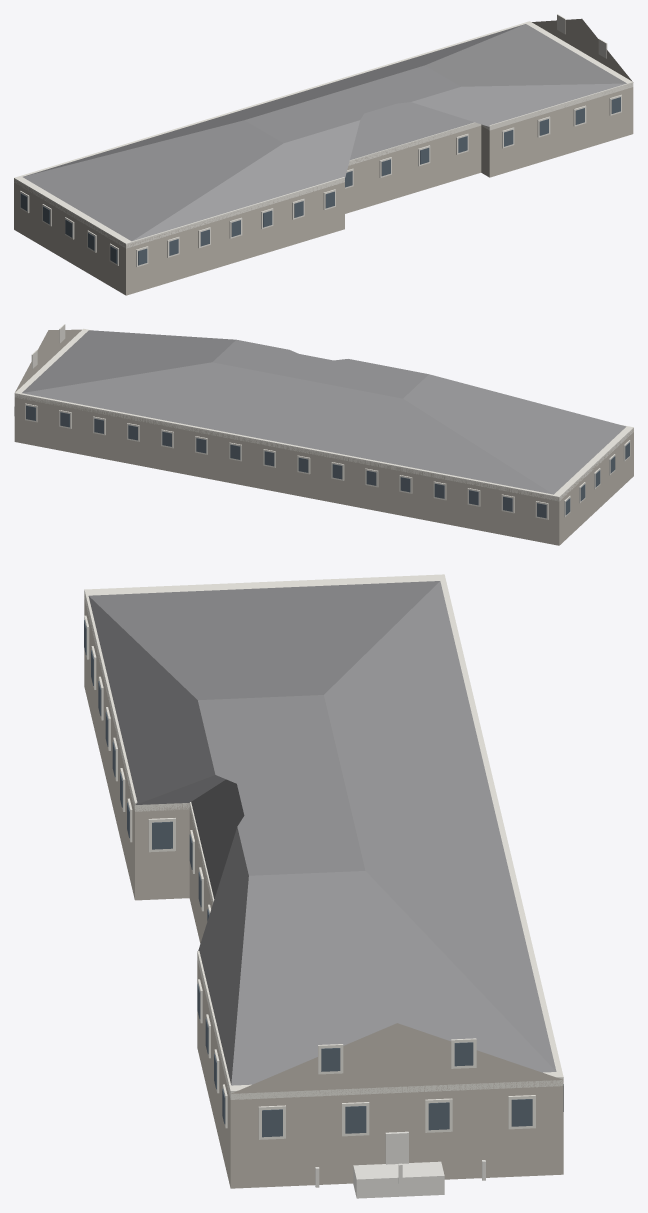
Rendered from s17_gis_247929_820785_detail.glb.
The picture shows the model from 3 angles, top to bottom: view 1: azimuth 30°, elevation 25°; view 2: azimuth 150°, elevation 25°; view 3: azimuth 270°, elevation 25°; orthographic projection. The views are drawn at different scales.
Visible parts, largest first — view 1: roof, mass, cornice, gable; view 2: roof, mass, cornice, gable; view 3: roof, mass, cornice, gable, porch.
Boxes of the visible parts, box(x1,y1,x2,y2) form: roof: box(23, 24, 626, 241); mass: box(14, 84, 633, 295); cornice: box(14, 21, 633, 248); gable: box(532, 18, 632, 81); roof: box(22, 330, 626, 494); mass: box(14, 395, 633, 545); cornice: box(14, 328, 633, 501); gable: box(15, 329, 81, 392); roof: box(88, 581, 556, 1085); mass: box(84, 596, 563, 1188); cornice: box(84, 574, 563, 1099); gable: box(231, 1023, 562, 1093); porch: box(353, 1161, 444, 1198).
Bounding box in the file's own units: 59.55 × 8.35 × 22.83.
